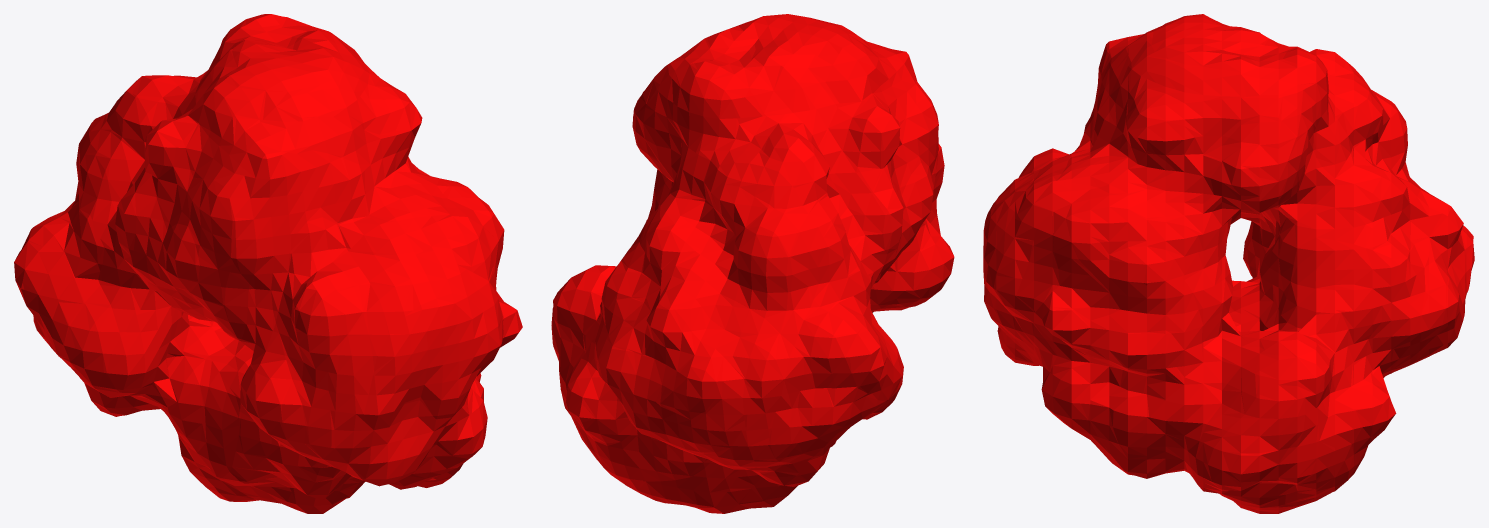
The model's file is nanA_coarse.dae.
The picture shows the model from 3 angles, left to right: view 1: azimuth 30°, elevation 25°; view 2: azimuth 150°, elevation 25°; view 3: azimuth 270°, elevation 25°; orthographic projection. The views are drawn at different scales.
Parts seen in each view (by area): view 1: nanA; view 2: nanA; view 3: nanA.
Boxes of the visible parts, x1,y1,x2,y2 form: nanA: (14,14,522,513); nanA: (551,14,954,513); nanA: (983,14,1474,513).
Bounding box in the file's own units: 78.61 × 91.64 × 92.22.
